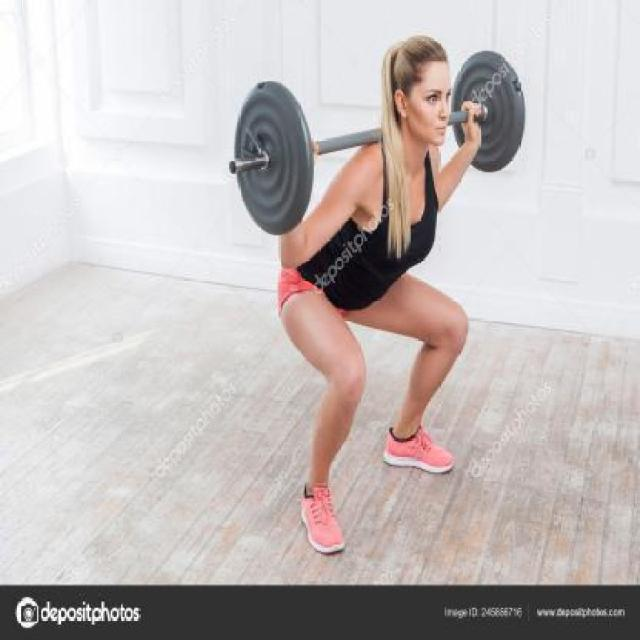barbell: (226, 77, 321, 241)
